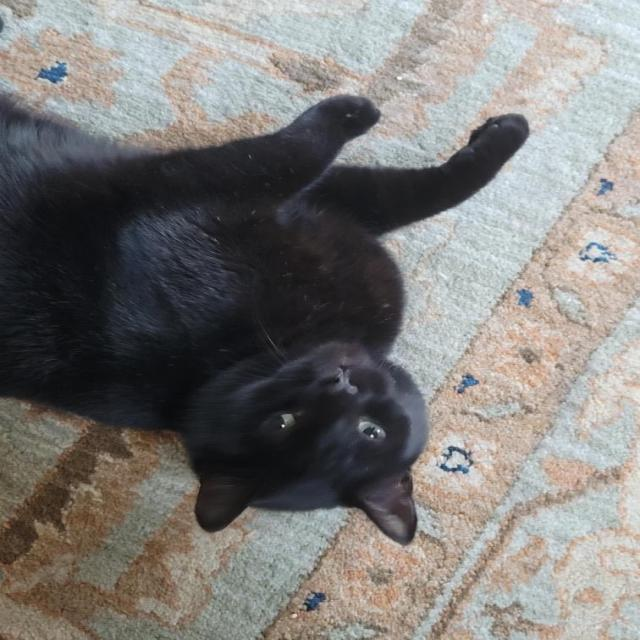bombay_cat: (154, 315, 482, 561)
